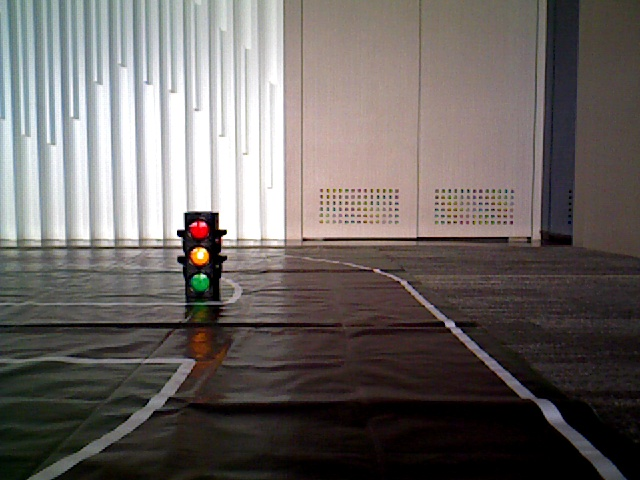yellow: (184, 218, 215, 292)
